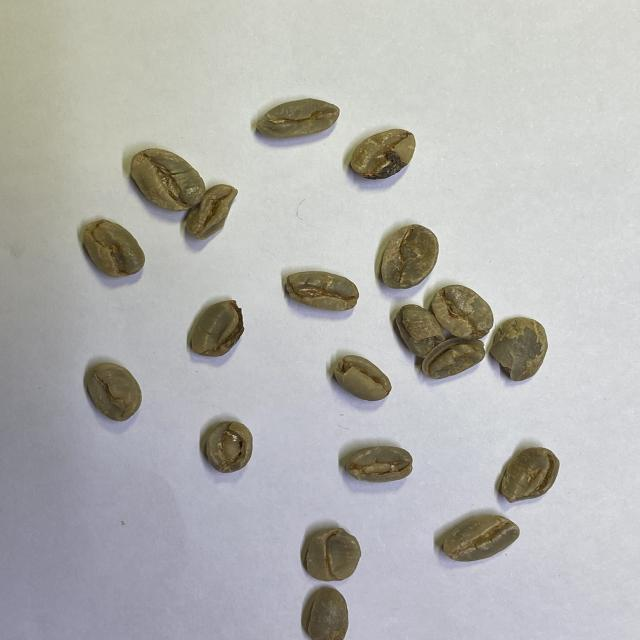bad: (128, 146, 208, 213), (376, 220, 441, 292), (489, 314, 553, 385), (438, 512, 523, 564), (79, 217, 146, 280), (254, 96, 343, 142), (498, 444, 564, 506), (84, 358, 145, 424), (349, 126, 418, 183), (299, 526, 364, 586), (187, 296, 247, 358), (432, 282, 494, 342), (182, 182, 240, 242), (331, 350, 395, 404), (281, 269, 360, 312), (418, 336, 488, 380), (299, 583, 352, 640), (394, 302, 446, 358), (342, 444, 414, 484), (204, 418, 256, 473)
